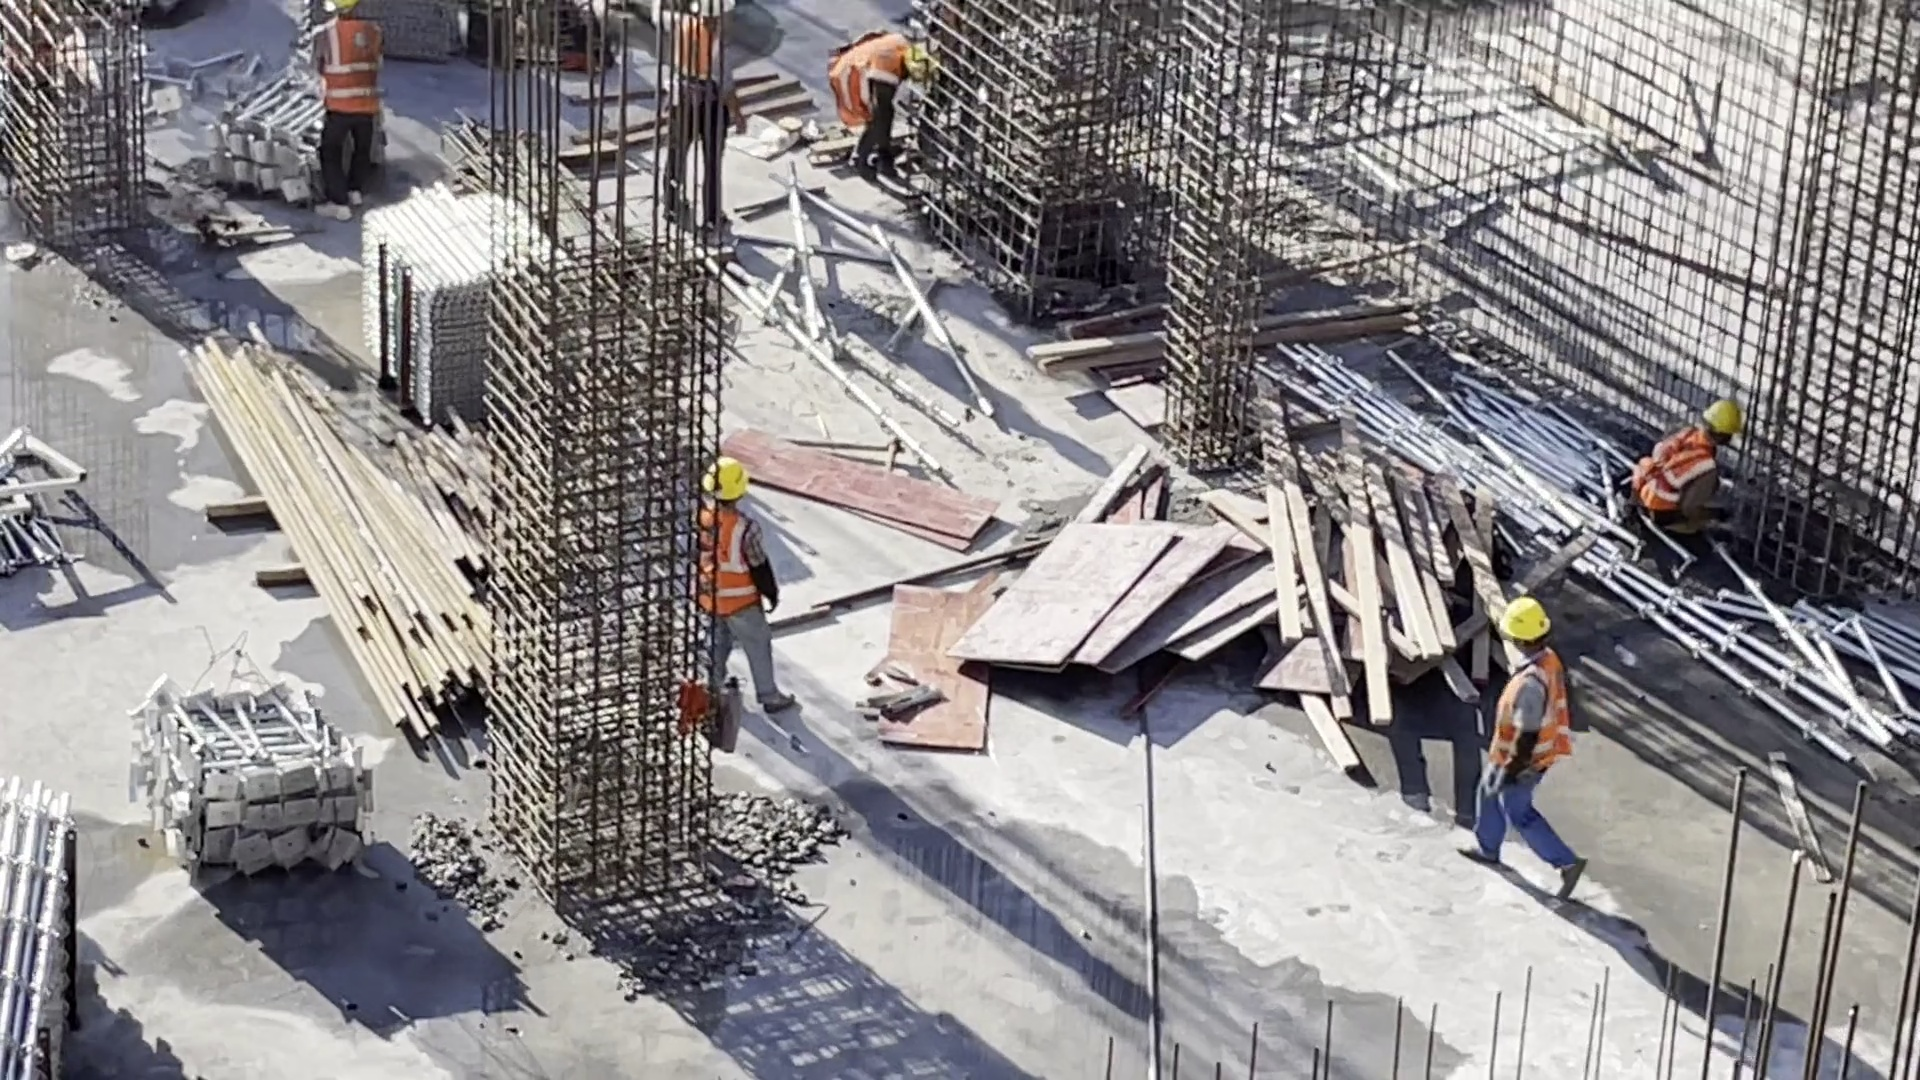helmet: (1498, 598, 1555, 646), (700, 459, 749, 508), (1712, 402, 1741, 438)
person: (1469, 589, 1600, 915), (675, 446, 797, 727), (649, 1, 741, 224), (1626, 376, 1733, 559), (302, 1, 395, 206), (826, 12, 922, 174)
vest: (678, 504, 761, 641), (1492, 657, 1572, 774), (1634, 431, 1713, 529), (318, 9, 387, 112), (667, 15, 734, 94), (844, 33, 898, 126)
